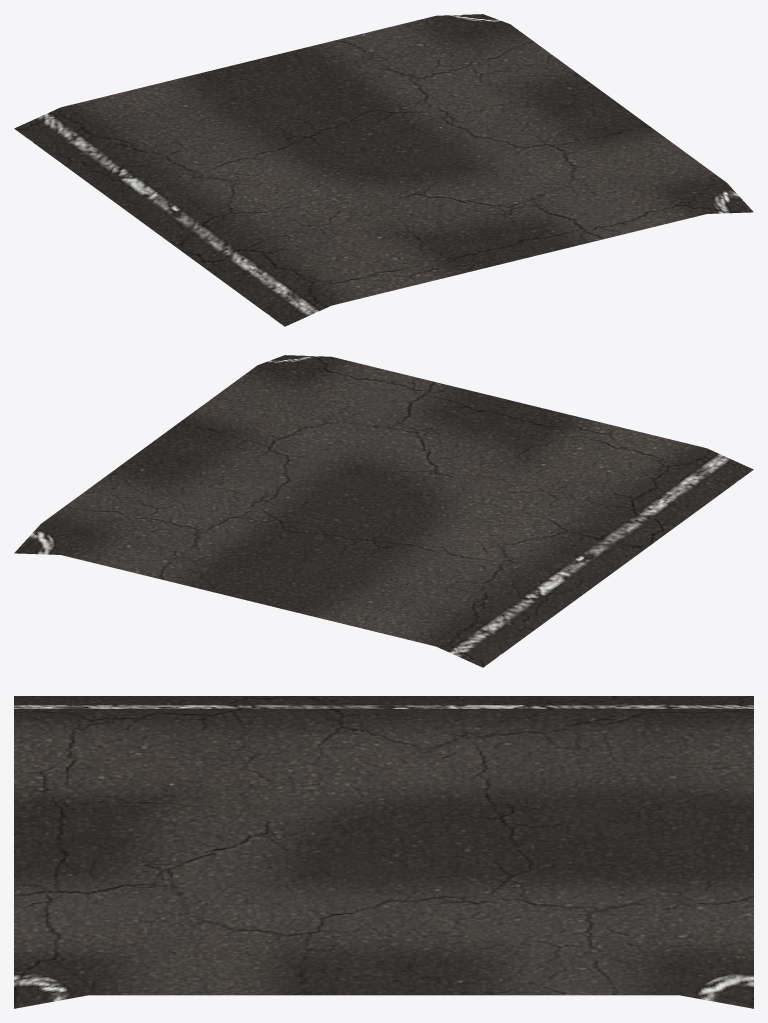
File: Road_04.glb
The picture shows the model from 3 angles, top to bottom: view 1: azimuth 30°, elevation 25°; view 2: azimuth 150°, elevation 25°; view 3: azimuth 270°, elevation 25°; orthographic projection. The views are drawn at different scales.
Visible parts, largest first — view 1: Road_04.001; view 2: Road_04.001; view 3: Road_04.001.
Boxes of the visible parts, x1=… form: Road_04.001: x1=14, y1=14, x2=753, y2=326; Road_04.001: x1=14, y1=355, x2=753, y2=667; Road_04.001: x1=14, y1=696, x2=753, y2=1008.
Bounding box in the file's own units: 10 × 0.2 × 10.
1 material, 1 textured.
